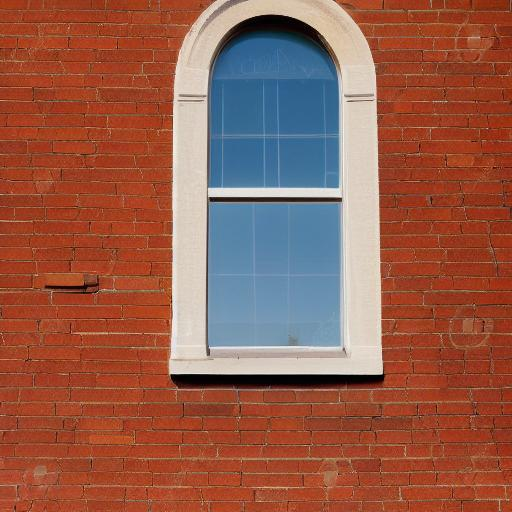Window: (169, 0, 387, 386)
